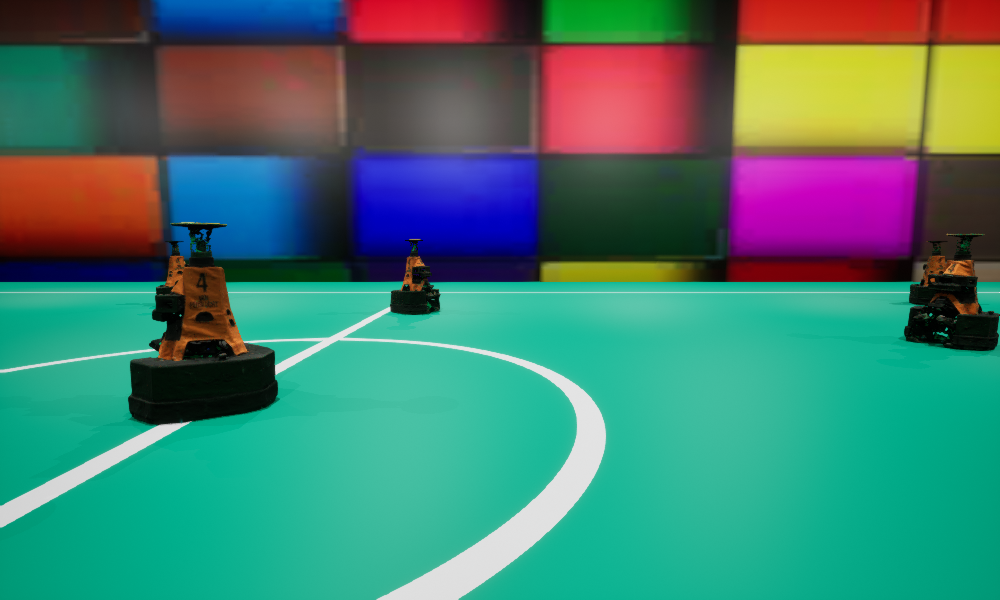0 orange robot TechUnited: (128, 222, 277, 423), (904, 233, 999, 349), (390, 239, 440, 314), (909, 241, 947, 305), (156, 241, 188, 305)
